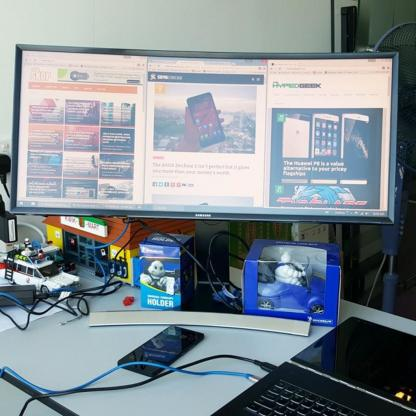board: (209, 315, 416, 415)
